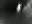person: (24, 2, 32, 19), (16, 4, 23, 15)
